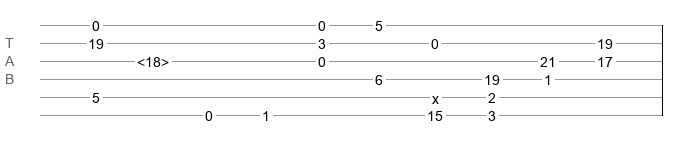0: (92, 18, 100, 28), (205, 108, 213, 118), (318, 54, 326, 64), (318, 18, 326, 28), (431, 36, 439, 46)
1: (262, 108, 270, 118), (544, 72, 552, 82)
15: (427, 108, 443, 118)
17: (597, 54, 613, 64)
19: (88, 36, 104, 46), (484, 72, 500, 82), (597, 36, 613, 46)
2: (488, 90, 496, 100)
21: (540, 54, 556, 64)
3: (318, 36, 326, 46), (488, 108, 496, 118)
5: (92, 90, 100, 100), (375, 18, 383, 28)
6: (375, 72, 383, 82)
harmonic: (137, 54, 169, 64)
x: (432, 91, 439, 99)
